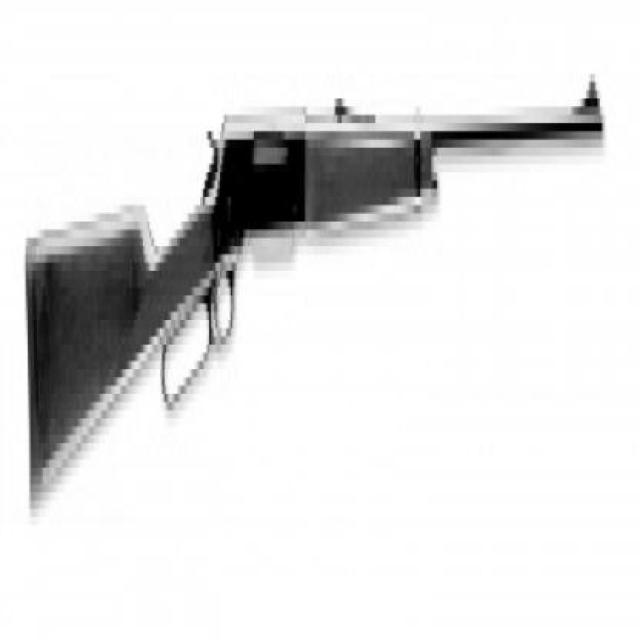weapon: (23, 74, 606, 514)
